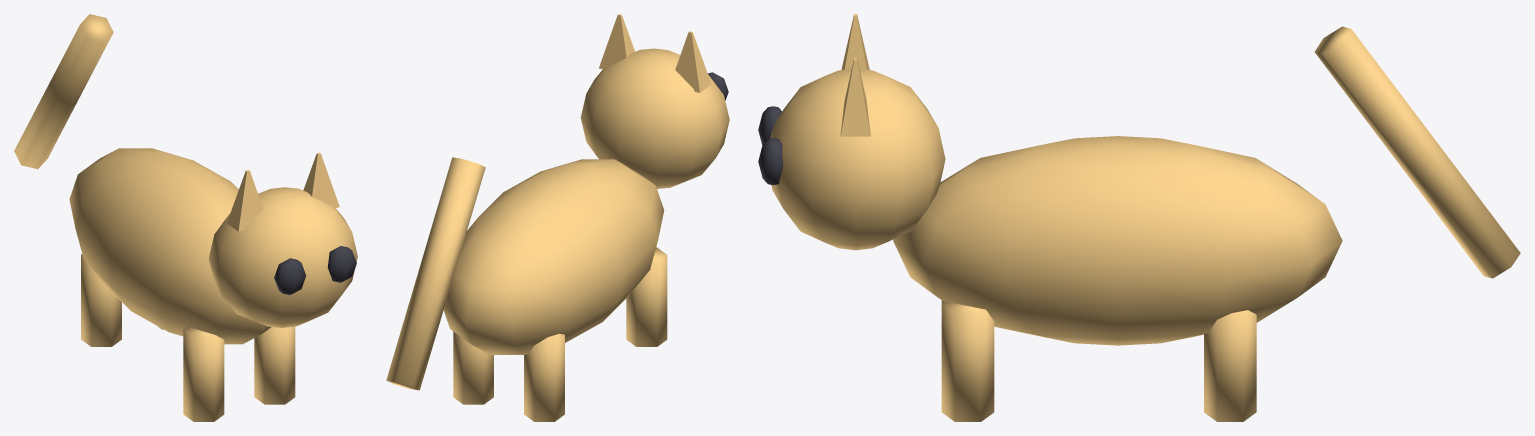
Rendered from Prop_Kucing.fbx.
The picture shows the model from 3 angles, left to right: view 1: azimuth 30°, elevation 25°; view 2: azimuth 150°, elevation 25°; view 3: azimuth 270°, elevation 25°; orthographic projection. The views are drawn at different scales.
Parts seen in each view (by area): view 1: Prop_Kucing; view 2: Prop_Kucing; view 3: Prop_Kucing.
Boxes of the visible parts, x1,y1,x2,y2 form: Prop_Kucing: (14, 14, 357, 421); Prop_Kucing: (386, 14, 729, 421); Prop_Kucing: (758, 14, 1520, 421).
Size of the model in its own units: 0.28 by 0.532 by 1.02.
